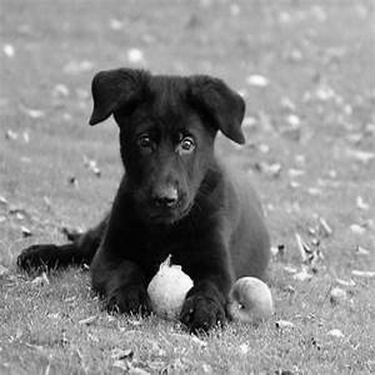dog: (6, 46, 284, 338)
